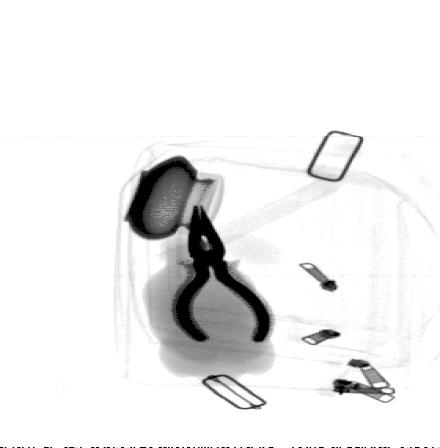Pliers: (168, 203, 276, 345)
